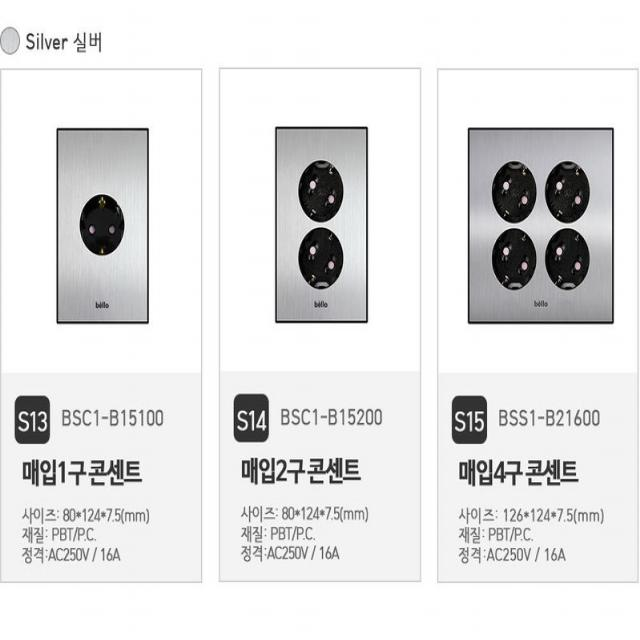typeb: (242, 105, 418, 360), (41, 112, 188, 337)
